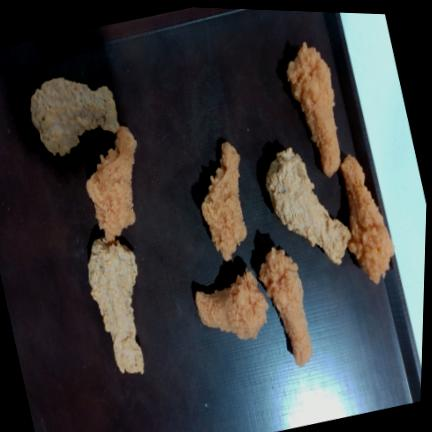chicken: (266, 147, 350, 262), (88, 236, 144, 373), (287, 42, 340, 176), (30, 77, 119, 155), (259, 246, 312, 365), (86, 126, 137, 238), (201, 142, 247, 260), (195, 268, 268, 339)
